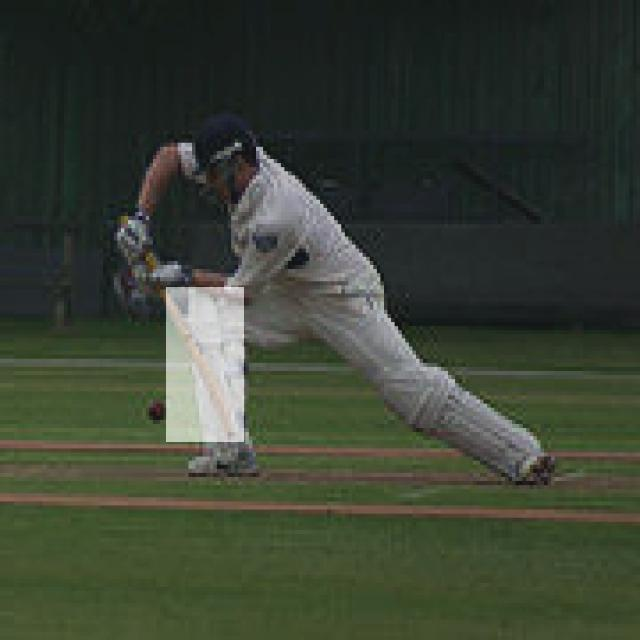bat: (166, 285, 245, 443)
